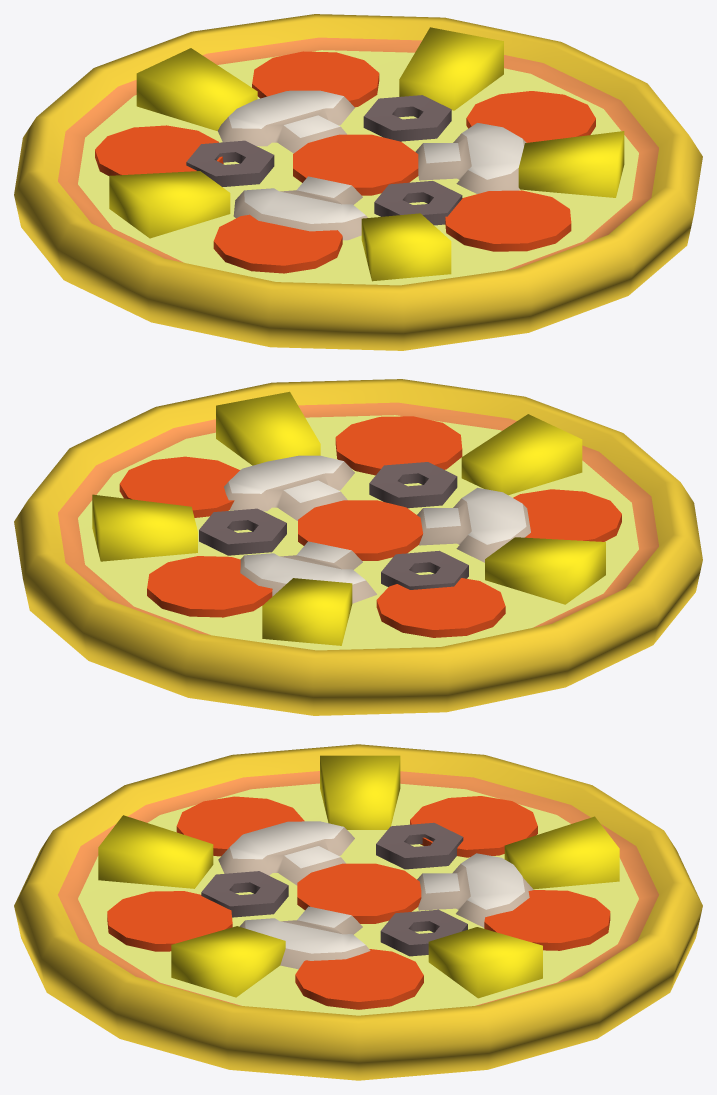
File: Stock_Pizza_geo.fbx
The picture shows the model from 3 angles, top to bottom: view 1: azimuth 30°, elevation 25°; view 2: azimuth 150°, elevation 25°; view 3: azimuth 270°, elevation 25°; orthographic projection.
Visible parts, largest first — view 1: Stock_Pizza_geo; view 2: Stock_Pizza_geo; view 3: Stock_Pizza_geo.
Part boxes in pixels (<box>): Stock_Pizza_geo: <box>14,14,702,350</box>; Stock_Pizza_geo: <box>14,379,702,715</box>; Stock_Pizza_geo: <box>14,744,702,1080</box>.
Bounding box in the file's own units: 0.8307 × 0.8307 × 0.0959.
